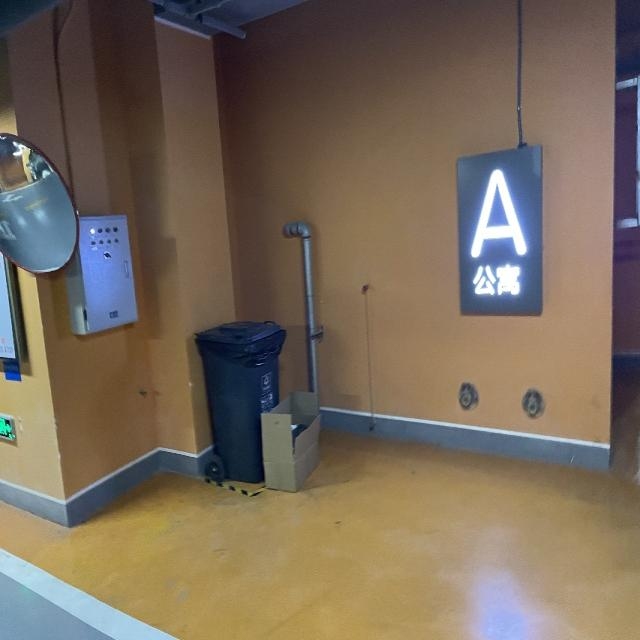garbage: (260, 392, 320, 487)
garbage_bin: (193, 320, 286, 483)
